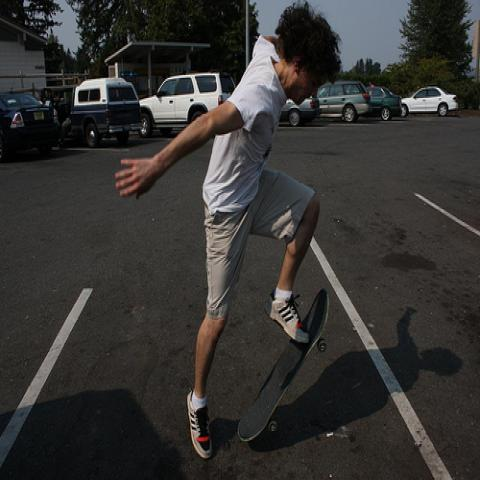car: (72, 77, 143, 148), (1, 92, 53, 152), (318, 82, 371, 124), (402, 86, 459, 118), (356, 86, 402, 122), (280, 96, 319, 126)
truck: (140, 66, 235, 132), (70, 77, 142, 149)
